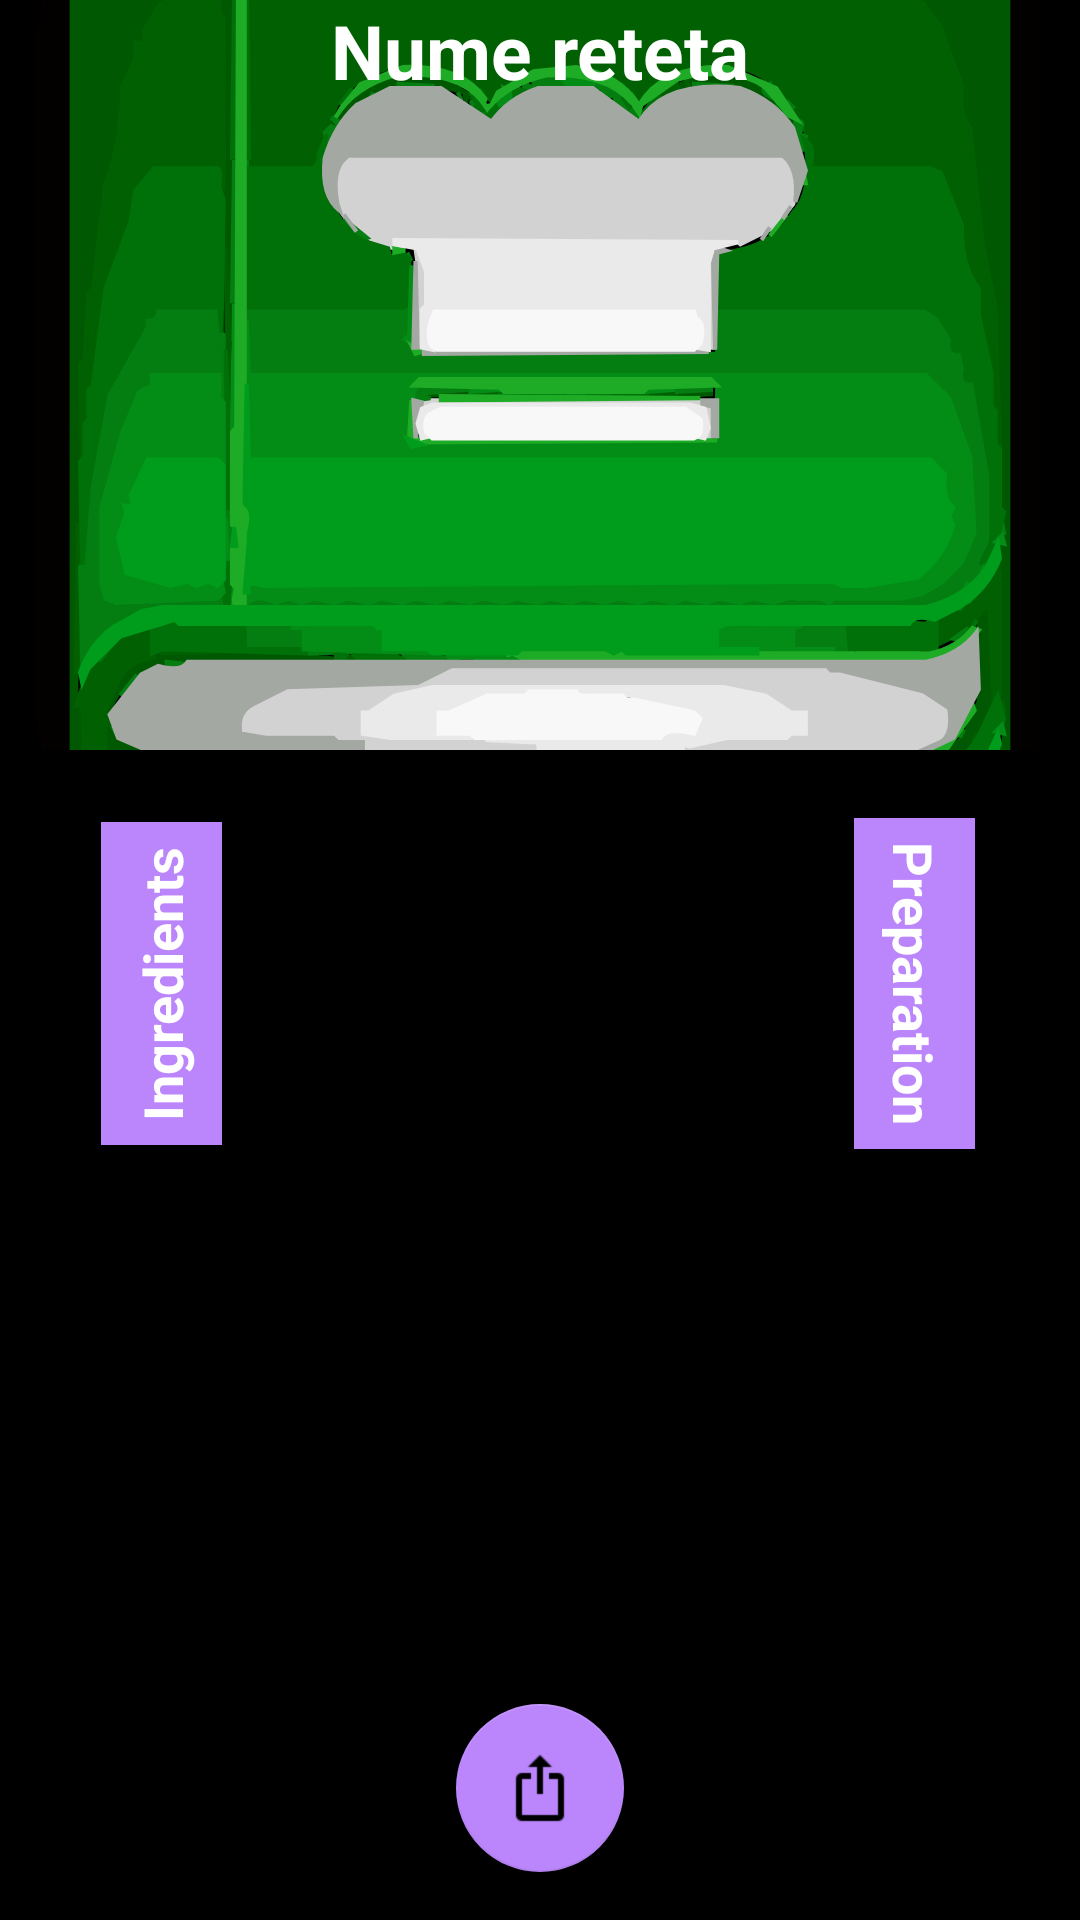

Named icons in this screenshot (1080px×1920px) and their centers, point (x, y):
Share: point (540, 1788)
